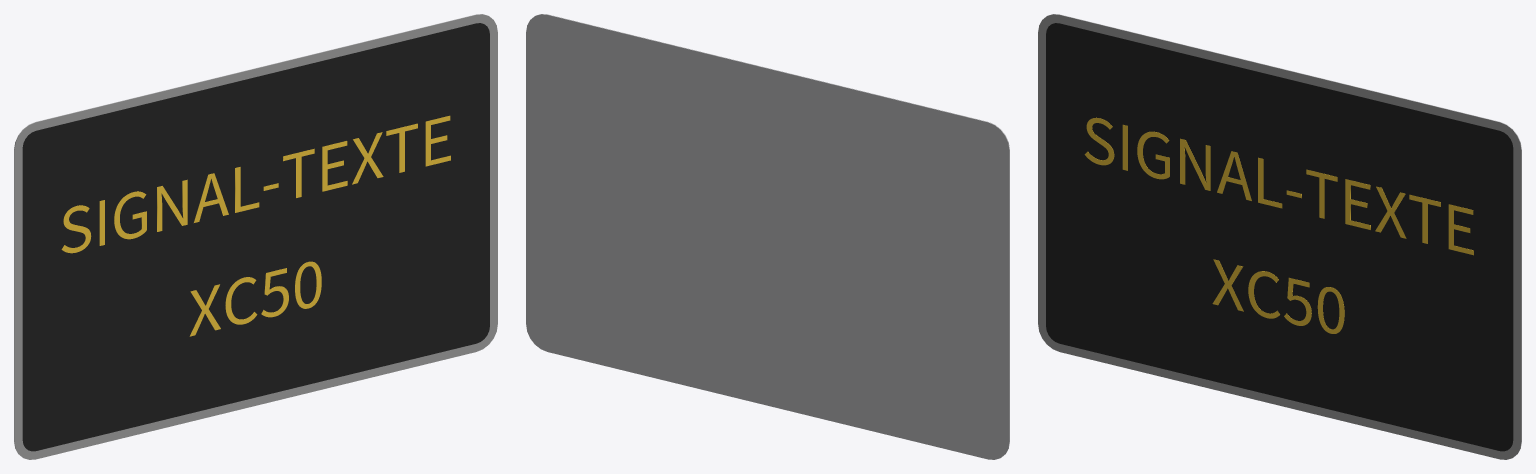
3 views of the same model, side by side, from view 1: azimuth 30°, elevation 25°; view 2: azimuth 150°, elevation 25°; view 3: azimuth 330°, elevation 25° (orthographic).
Parts seen in each view (by area): view 1: XC50_r01, XC50_r00, XC50_txt02, XC50_txt03, XC50_dos; view 2: XC50_dos, XC50_r00; view 3: XC50_r01, XC50_r00, XC50_txt02, XC50_txt03, XC50_dos.
Part boxes in pixels (x1,y1,x2,y2): XC50_r01: (22, 23, 489, 451); XC50_r00: (14, 14, 497, 459); XC50_txt02: (61, 115, 450, 253); XC50_txt03: (189, 261, 321, 336); XC50_dos: (14, 14, 487, 452); XC50_dos: (526, 14, 1009, 459); XC50_r00: (542, 14, 1009, 448); XC50_r01: (1046, 23, 1513, 451); XC50_r00: (1038, 14, 1521, 459); XC50_txt02: (1084, 117, 1473, 255); XC50_txt03: (1212, 259, 1344, 333); XC50_dos: (1048, 14, 1521, 452).
Bounding box in the file's own units: 0.9 × 0.6 × 0.0029.
